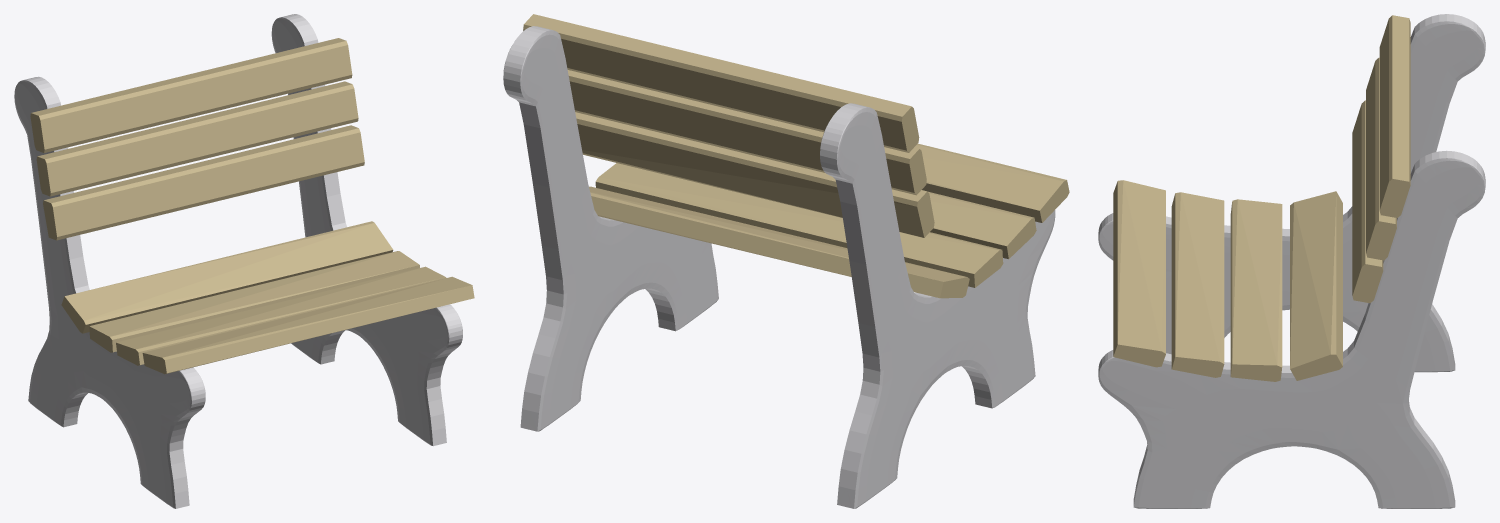
The model's file is sh-kl-concrete-bench.glb.
3 renders of one model, left to right at view 1: azimuth 30°, elevation 25°; view 2: azimuth 150°, elevation 25°; view 3: azimuth 270°, elevation 25°, orthographic. The views are drawn at different scales.
Visible parts, largest first — view 1: Bench_slats, Bench_supports; view 2: Bench_slats, Bench_supports; view 3: Bench_supports, Bench_slats.
Part boxes in pixels (x1,y1,x2,y2): Bench_slats: (30, 38, 474, 374); Bench_supports: (14, 14, 462, 508); Bench_slats: (523, 14, 1069, 298); Bench_supports: (503, 26, 1055, 508); Bench_supports: (1098, 14, 1485, 508); Bench_slats: (1113, 15, 1410, 381).
Size of the model in its own units: 1 by 1 by 1.
